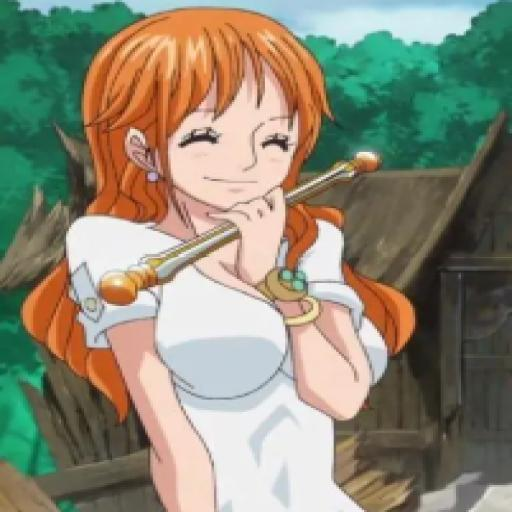Nami: (44, 4, 434, 512)
